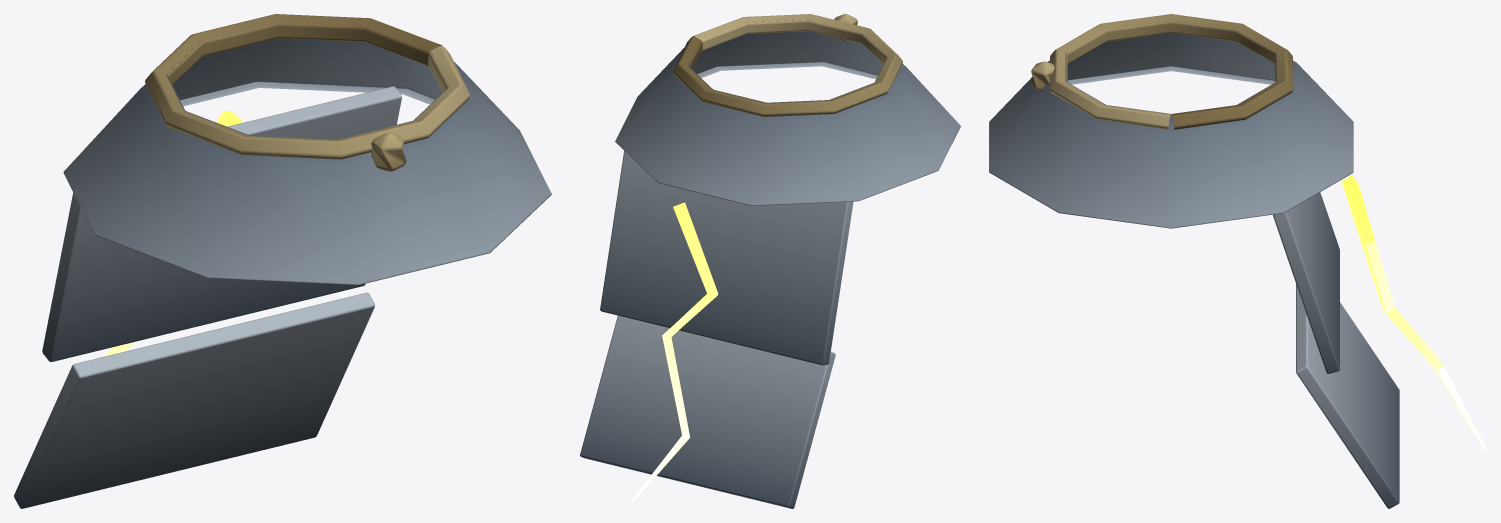
Rendered from lg_stormcloak.glb.
The picture shows the model from 3 angles, left to right: view 1: azimuth 30°, elevation 25°; view 2: azimuth 150°, elevation 25°; view 3: azimuth 270°, elevation 25°; orthographic projection. The views are drawn at different scales.
Visible parts, largest first — view 1: lg_stormcloak; view 2: lg_stormcloak, lg_stormcloak_glow; view 3: lg_stormcloak, lg_stormcloak_glow.
Part boxes in pixels (x1,y1,x2,y2): lg_stormcloak: (14,14,551,508); lg_stormcloak: (580,14,960,508); lg_stormcloak_glow: (630,202,718,502); lg_stormcloak: (989,14,1399,508); lg_stormcloak_glow: (1341,175,1486,450).
Size of the model in its own units: 2.15 by 2.42 by 2.79.
